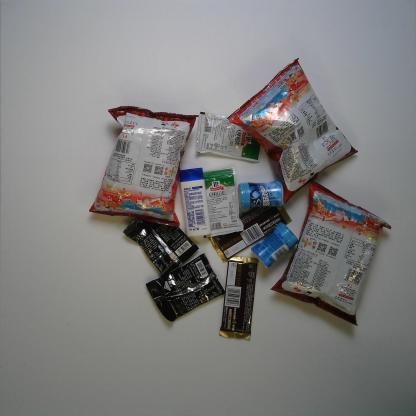Chocolate: (206, 202, 293, 263), (216, 254, 260, 342)
Gum: (248, 220, 301, 270), (233, 178, 287, 210)
Instant Drink: (144, 252, 227, 326), (121, 212, 200, 278)
Personal Hygiene: (174, 165, 214, 238)
Puffed Food: (223, 55, 360, 205), (268, 176, 392, 330), (86, 103, 200, 229)
Seasoner: (192, 108, 265, 166), (199, 166, 246, 240)
